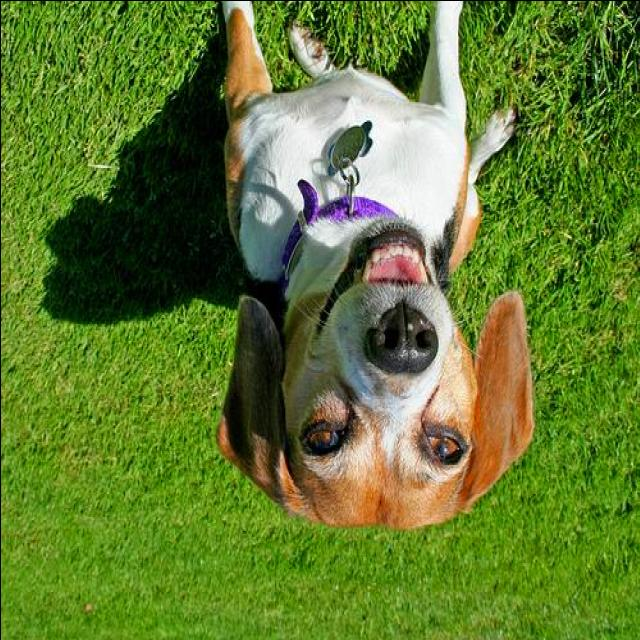beagle: (214, 3, 534, 527)
